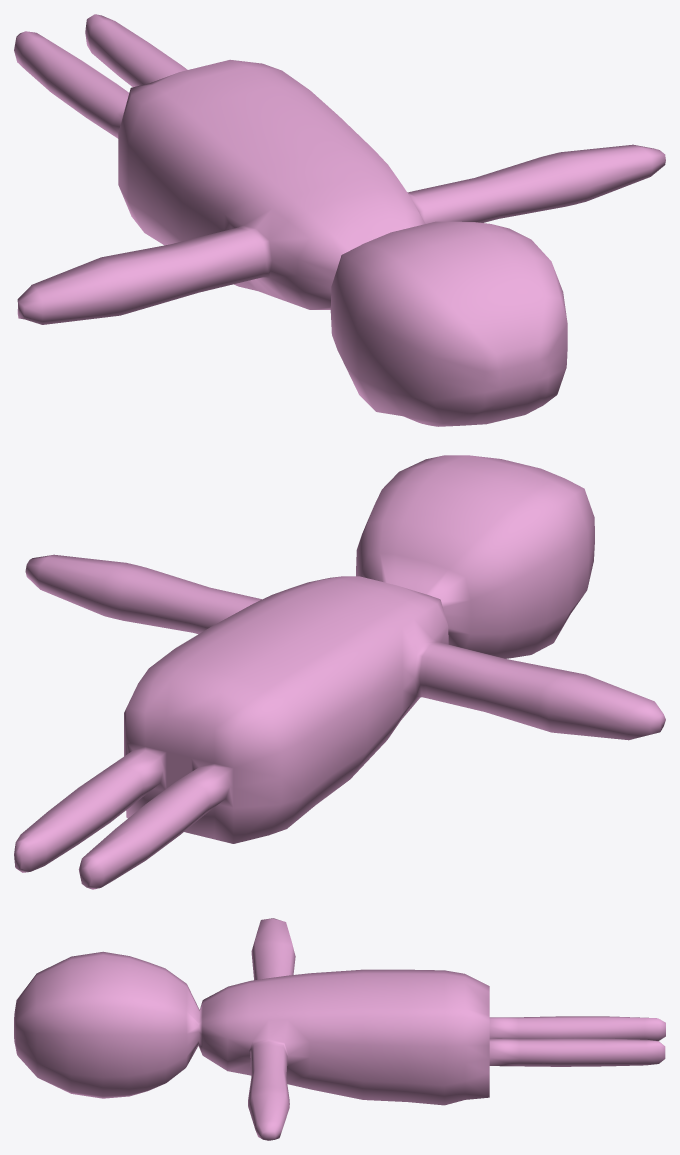
File: alumnoLowPoly.obj
3 views of the same model, one above another, from view 1: azimuth 30°, elevation 25°; view 2: azimuth 150°, elevation 25°; view 3: azimuth 270°, elevation 25° (orthographic). The views are drawn at different scales.
Parts seen in each view (by area): view 1: Box001; view 2: Box001; view 3: Box001.
Part boxes in pixels (box(x1,y1,x2,y2)): Box001: box(14, 14, 665, 426); Box001: box(14, 455, 665, 889); Box001: box(14, 918, 665, 1140).
Bounding box in the file's own units: 17.78 × 4.68 × 23.04.
